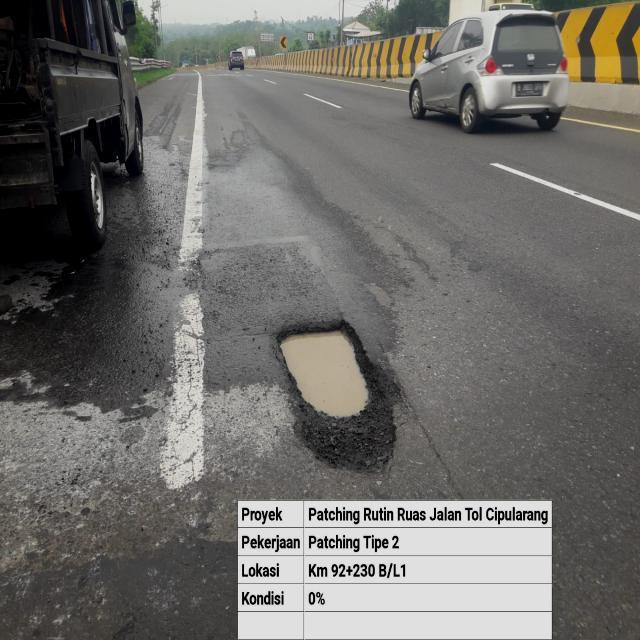Buraco: (267, 316, 406, 478)
